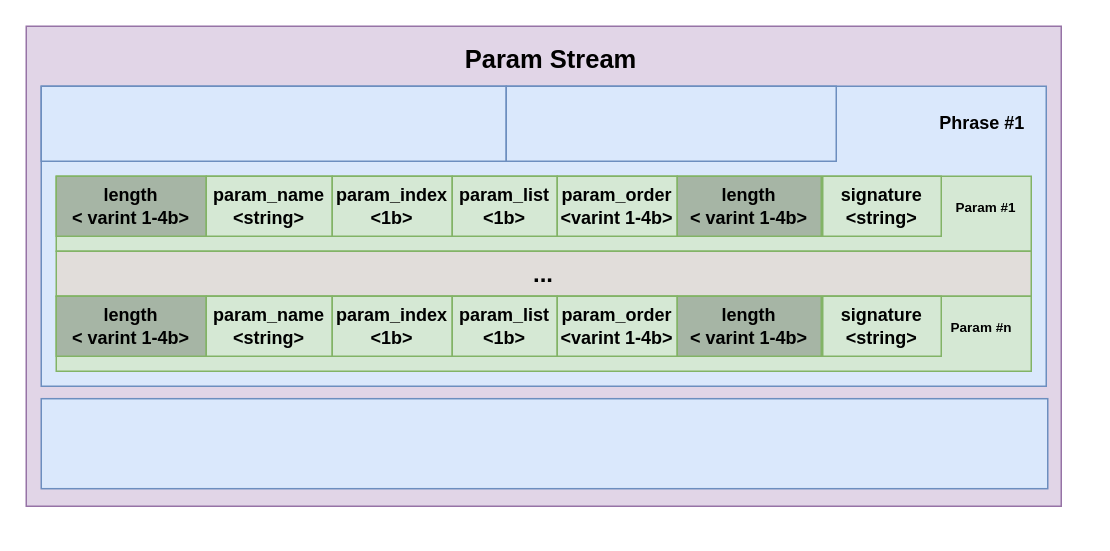
This 1110x551 diagram has some shape labels left out. The centre of each missing label's shape, as x and y in pixels:
"length of phrase <int 4b>" belongs at pixel 273 123.
"Phrase #n" belongs at pixel 544 443.
"version <1b>" belongs at pixel 670 123.
